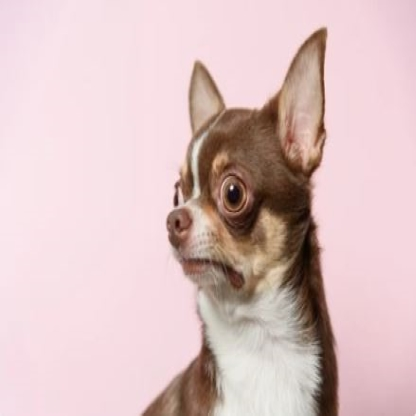chihuahua: (134, 23, 341, 416)
